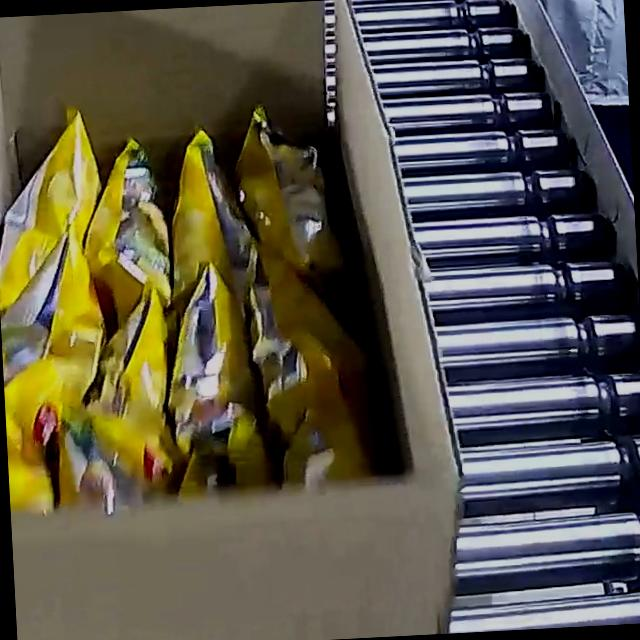salted: (0, 87, 378, 516)
